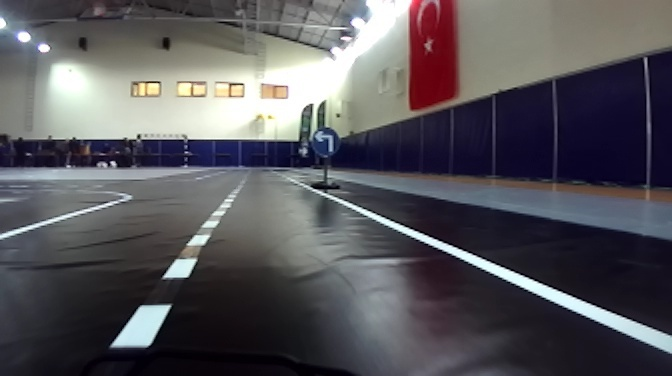sola_donus: (312, 126, 341, 159)
